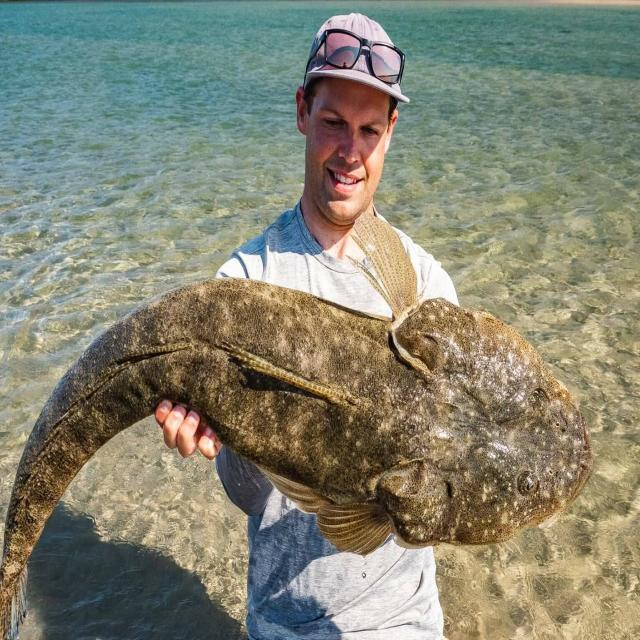Flathead: (0, 264, 605, 640)
